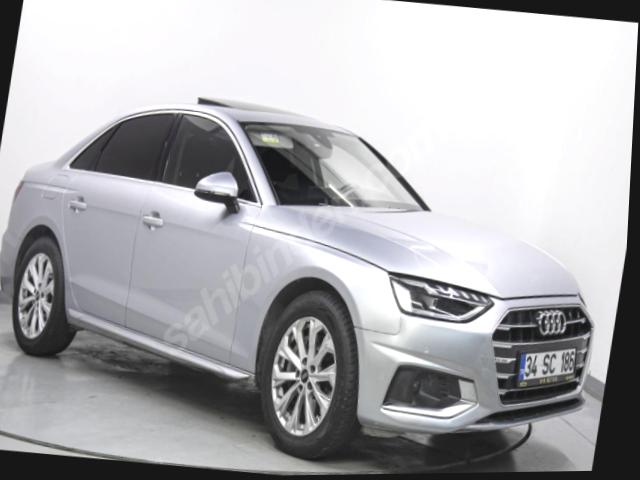plaka: (518, 348, 575, 386)
